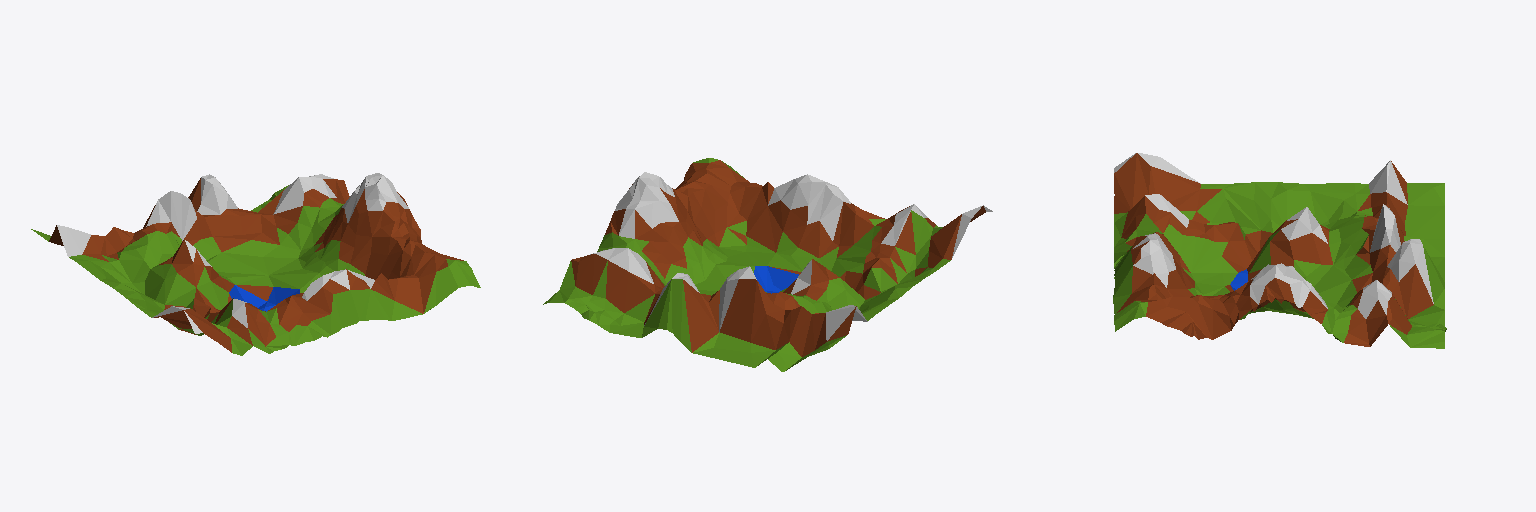
File: landscape.obj
The picture shows the model from 3 angles: view 1: azimuth 30°, elevation 25°; view 2: azimuth 150°, elevation 25°; view 3: azimuth 270°, elevation 25°; orthographic projection.
Visible parts, largest first — view 1: Grid.001; view 2: Grid.001; view 3: Grid.001.
Part boxes in pixels (left/top/right/bottom): Grid.001: left=31, top=173, right=480, bottom=355; Grid.001: left=543, top=158, right=992, bottom=371; Grid.001: left=1113, top=153, right=1446, bottom=348.
Bounding box in the file's own units: 101 × 34.71 × 101.